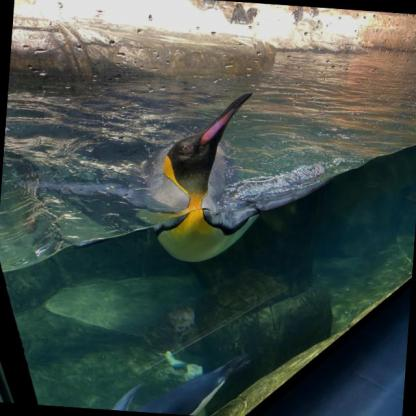penguin: (123, 84, 269, 266)
